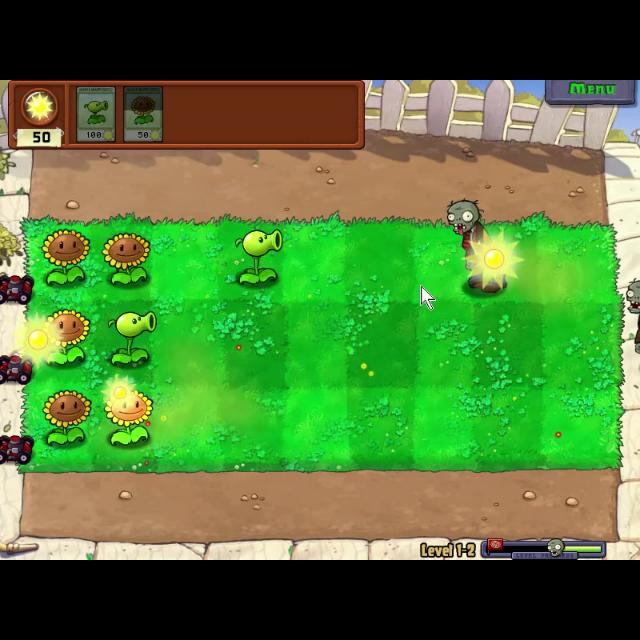Garden: (16, 212, 624, 473)
Menu Button: (544, 80, 636, 106)
Mower: (0, 268, 34, 304), (0, 431, 34, 465), (0, 353, 34, 385)
Peashooter: (77, 84, 117, 144)
Peashooter Seed: (230, 224, 288, 290), (106, 309, 160, 367)
Seed Panel: (5, 80, 368, 152)
Sun: (458, 223, 528, 294), (14, 314, 64, 366), (96, 369, 142, 415)
Sunflower: (121, 82, 165, 144)
Sunflower Seed: (101, 385, 152, 449), (98, 228, 152, 288), (41, 304, 91, 366), (38, 388, 88, 447), (42, 229, 86, 283)
Zombie: (442, 197, 512, 299), (620, 280, 640, 350)
